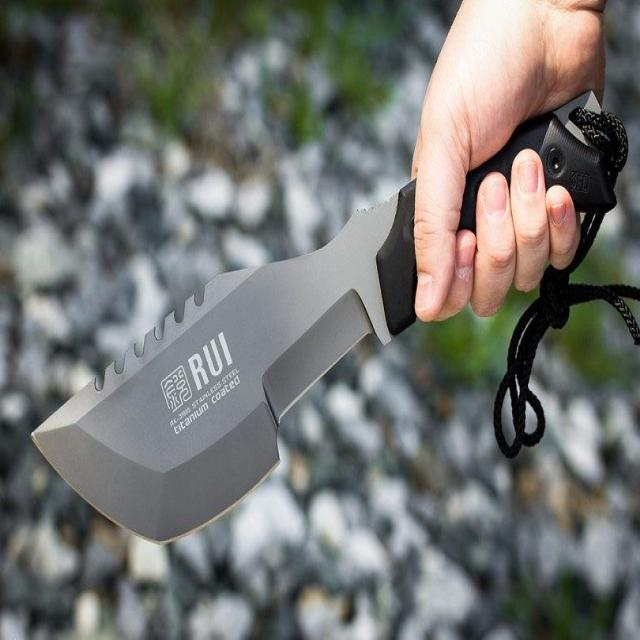knife: (17, 85, 634, 557)
